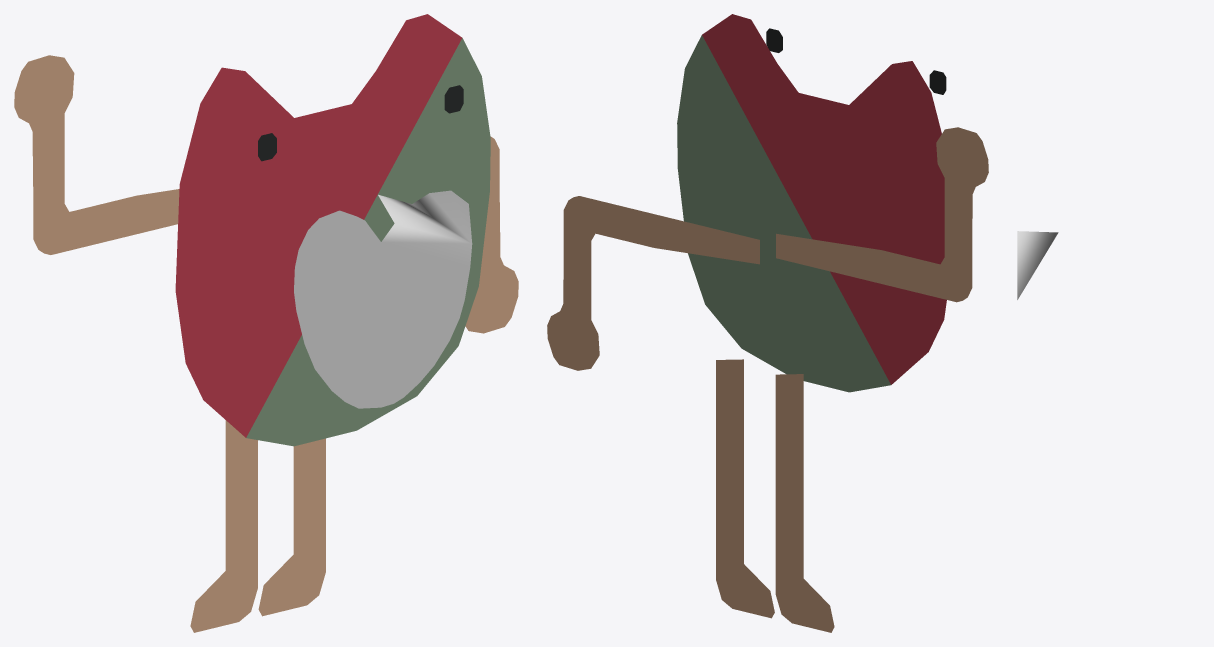
File: file_haha_high.fbx
3 views of the same model, side by side, from view 1: azimuth 30°, elevation 25°; view 2: azimuth 150°, elevation 25°; view 3: azimuth 270°, elevation 25° (orthographic). The views are drawn at different scales.
Visible parts, largest first — view 1: polySurface21; view 2: polySurface21; view 3: polySurface21.
Boxes of the visible parts, left/top/right/bottom form: polySurface21: left=14, top=14, right=518, bottom=632; polySurface21: left=547, top=14, right=988, bottom=632; polySurface21: left=1017, top=231, right=1058, bottom=299.
Bounding box in the file's own units: 2.01 × 2.36 × 0.7588.
